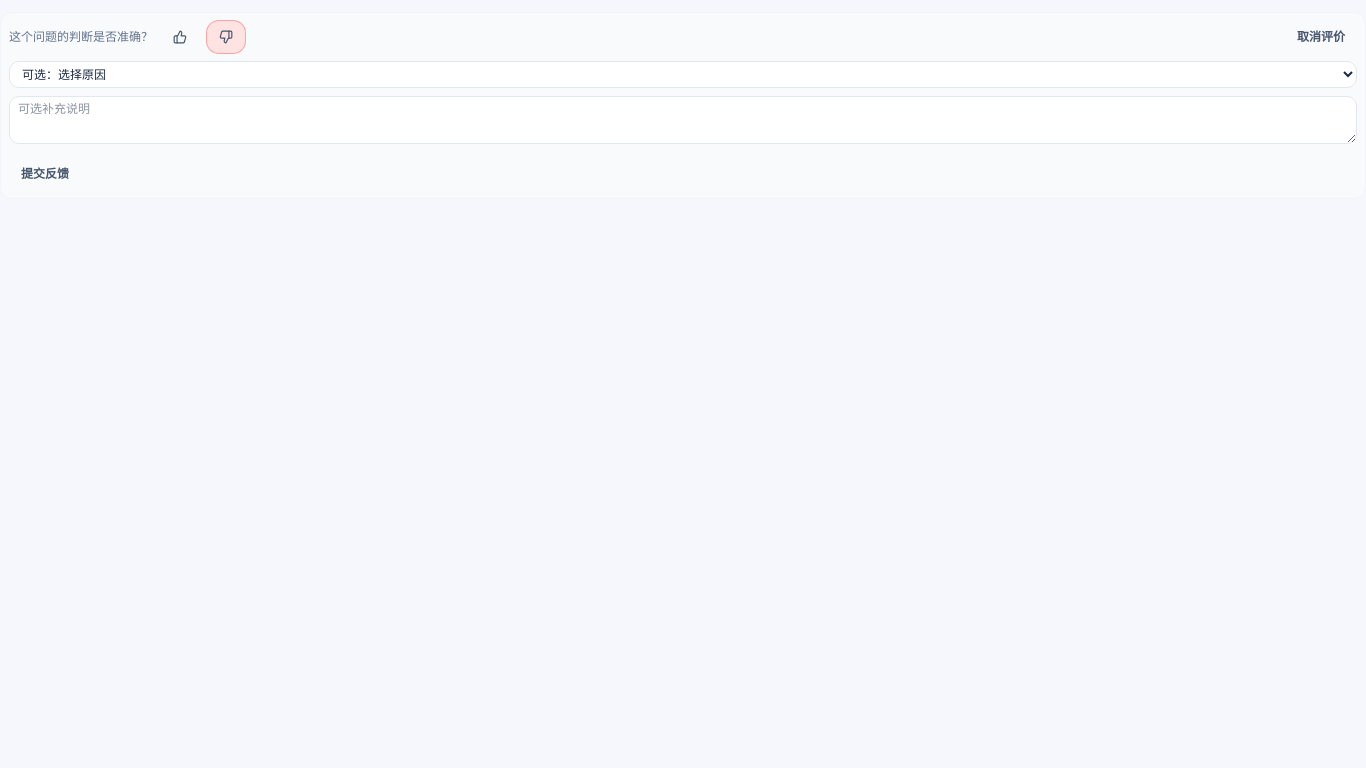
Test: paper lint feedback submission › accepts synchronous reason callbacks and submits blank optional fields as null
The image size is (1366, 768).
Step 1. Click the button "提交反馈" → (45, 174), box [9,158,81,190]
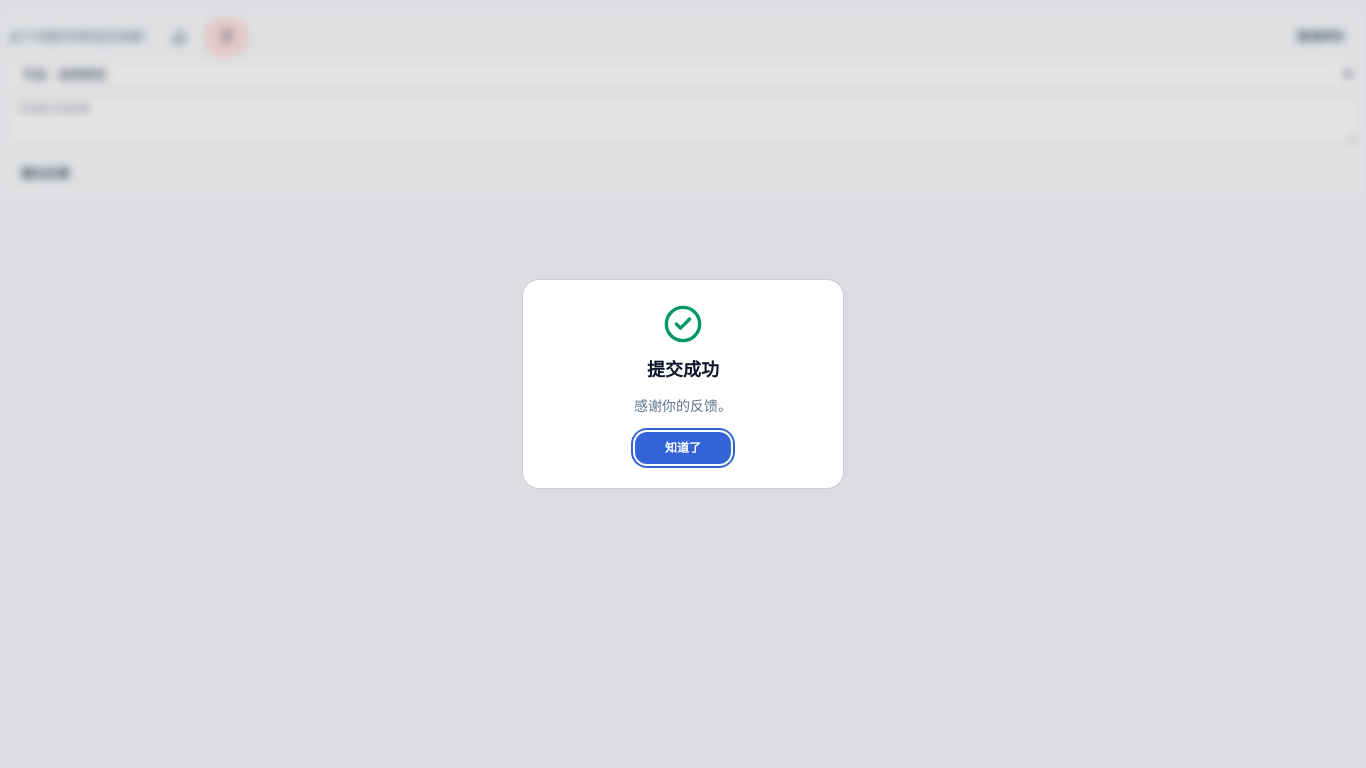
Check: the dialog "提交成功" is shown, box [523,280,843,488]
